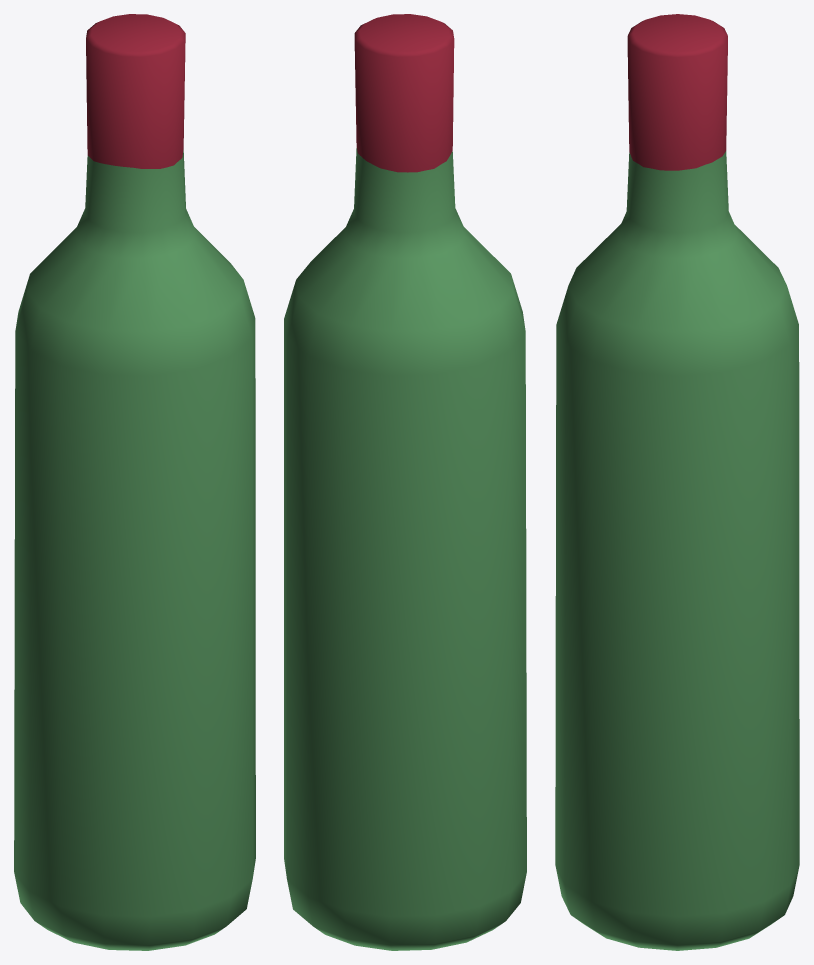
Rendered from bottle_bordeaux_lod2.glb.
3 renders of one model, left to right at view 1: azimuth 30°, elevation 25°; view 2: azimuth 150°, elevation 25°; view 3: azimuth 270°, elevation 25°, orthographic.
Parts seen in each view (by area): view 1: Glass, Cap; view 2: Glass, Cap; view 3: Glass, Cap.
Boxes of the visible parts, bbox=[...] form: Glass: bbox=[14, 150, 255, 950]; Cap: bbox=[86, 14, 185, 168]; Glass: bbox=[284, 148, 526, 950]; Cap: bbox=[354, 14, 454, 172]; Glass: bbox=[555, 151, 799, 950]; Cap: bbox=[627, 14, 727, 170].
Bounding box in the file's own units: 0.0761 × 0.3008 × 0.076.
